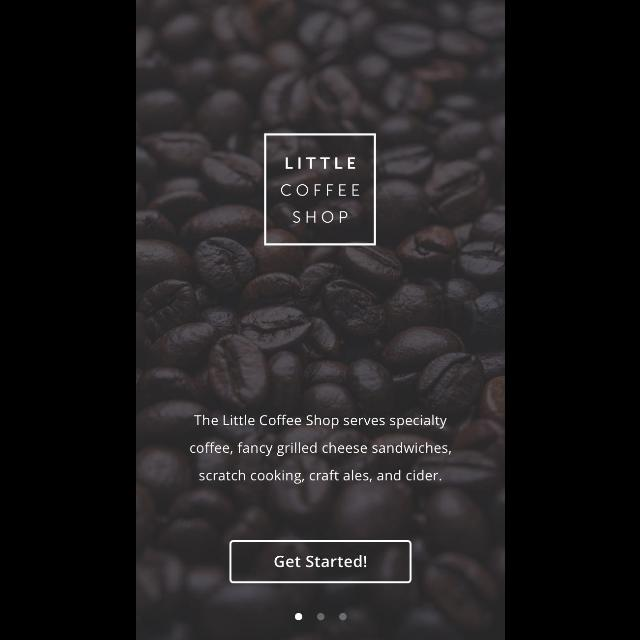backgroundimage: (136, 1, 504, 640)
image: (262, 134, 376, 246)
pageindicator: (294, 612, 346, 622)
text: (189, 414, 451, 484)
textbutton: (229, 540, 411, 584)
